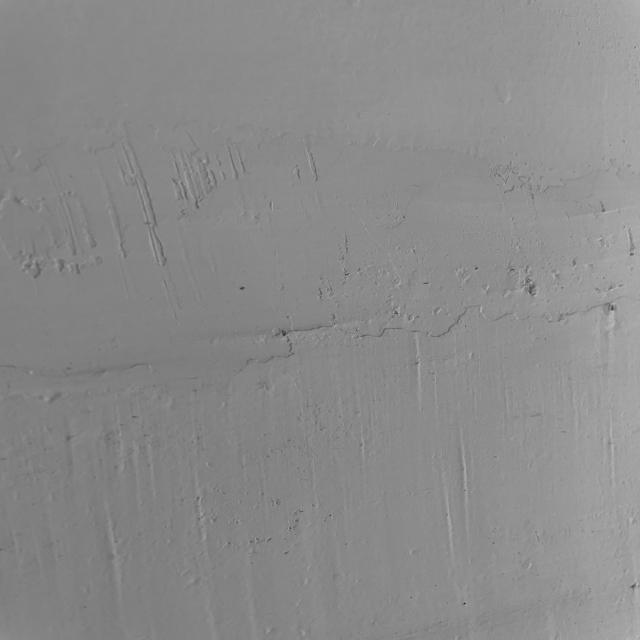rough and patchy surface: (0, 112, 640, 640)
